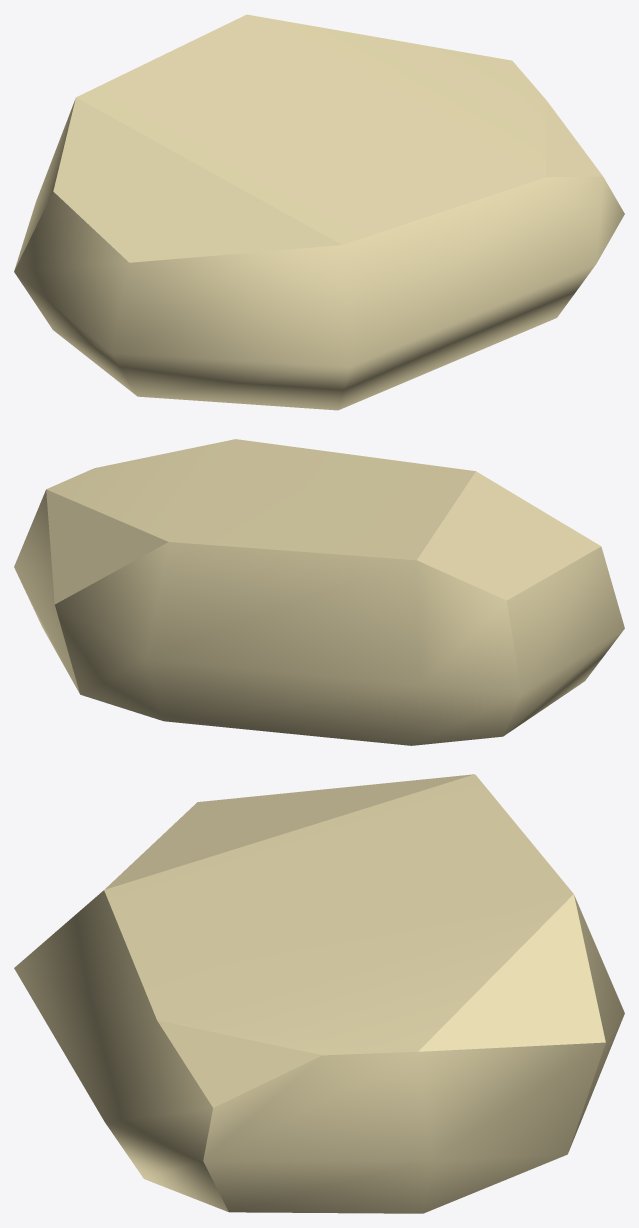
The model's file is rock4.fbx.
3 renders of one model, top to bottom at view 1: azimuth 30°, elevation 25°; view 2: azimuth 150°, elevation 25°; view 3: azimuth 270°, elevation 25°, orthographic. The views are drawn at different scales.
Parts seen in each view (by area): view 1: rock4; view 2: rock4; view 3: rock4.
Part boxes in pixels (x1,y1,x2,y2): rock4: (14,14,624,410); rock4: (14,439,624,745); rock4: (14,774,624,1213).
Size of the model in its own units: 7.75 by 2.78 by 6.86.
